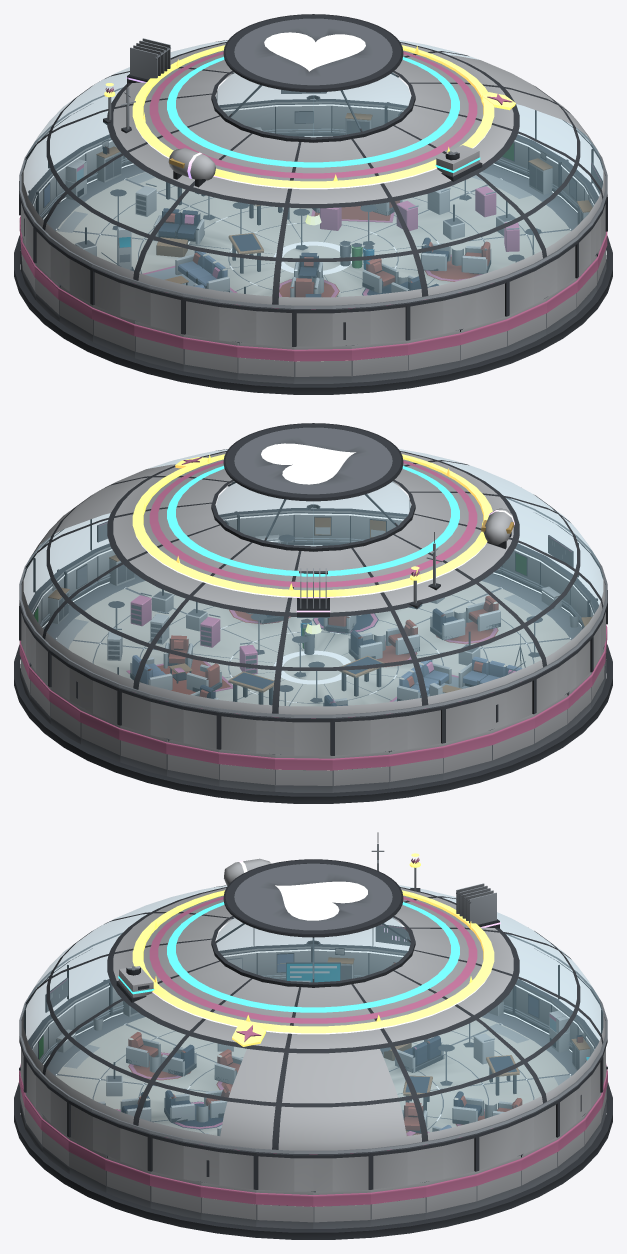
The model's file is lounge_l_far.glb.
3 views of the same model, one above another, from view 1: azimuth 30°, elevation 25°; view 2: azimuth 150°, elevation 25°; view 3: azimuth 270°, elevation 25° (orthographic).
Visible parts, largest first — view 1: Roof, Base, Interior, L5, L3, L2, L4; view 2: Roof, Base, Interior, L5, L2, L3, L4; view 3: Roof, Base, Interior, L5, L3, L2, L4.
Part boxes in pixels (x1=…): Roof: x1=19, y1=14, x2=607, y2=346; Base: x1=14, y1=99, x2=612, y2=394; Interior: x1=58, y1=172, x2=541, y2=297; L5: x1=103, y1=45, x2=515, y2=187; L3: x1=167, y1=57, x2=482, y2=181; L2: x1=19, y1=76, x2=607, y2=308; L4: x1=126, y1=38, x2=490, y2=194; Roof: x1=19, y1=423, x2=607, y2=755; Base: x1=14, y1=508, x2=612, y2=803; Interior: x1=56, y1=534, x2=546, y2=706; L5: x1=132, y1=454, x2=492, y2=609; L2: x1=19, y1=498, x2=607, y2=717; L3: x1=167, y1=466, x2=459, y2=576; L4: x1=136, y1=508, x2=514, y2=617; Roof: x1=19, y1=859, x2=607, y2=1191; Base: x1=14, y1=944, x2=612, y2=1239; Interior: x1=64, y1=962, x2=569, y2=1135; L5: x1=132, y1=853, x2=494, y2=1046; L3: x1=116, y1=902, x2=459, y2=1012; L2: x1=19, y1=832, x2=607, y2=1153; L4: x1=152, y1=858, x2=500, y2=1034.
Bounding box in the file's own units: 18.96 × 7.56 × 18.96.
